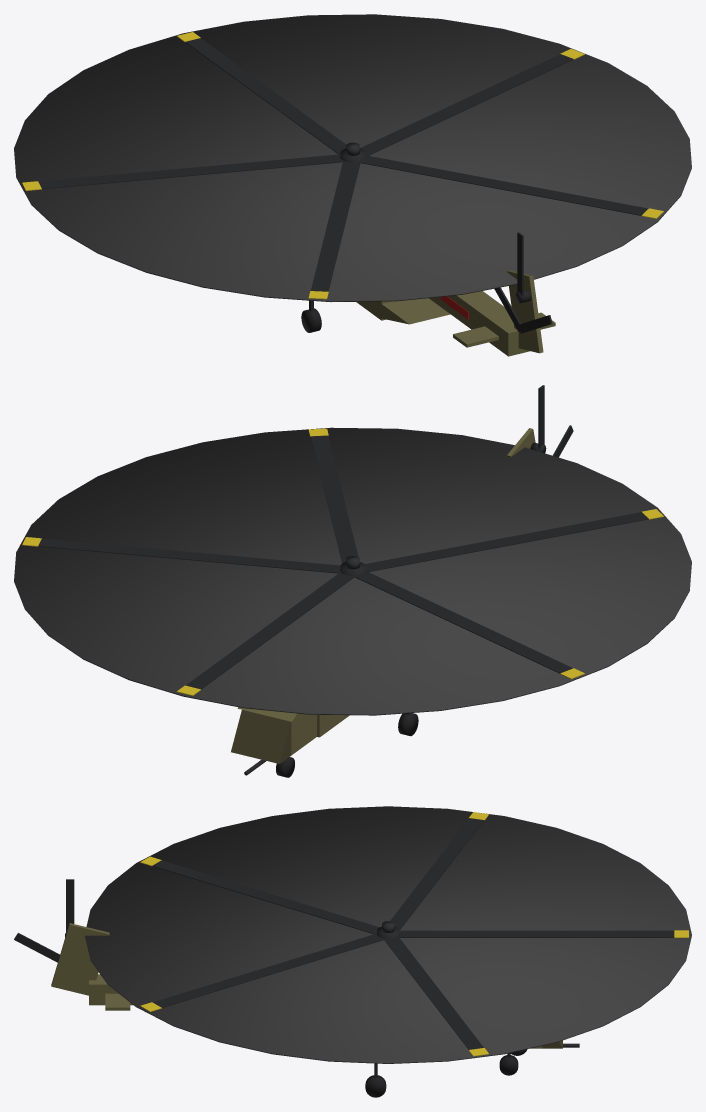
Rendered from AttackHeli_Red.fbx.
3 views of the same model, one above another, from view 1: azimuth 30°, elevation 25°; view 2: azimuth 150°, elevation 25°; view 3: azimuth 270°, elevation 25° (orthographic). The views are drawn at different scales.
Parts seen in each view (by area): view 1: RotorDisc, RotorBlade4, RotorBlade2, RotorBlade1, TailBoom, RotorBlade0, RotorBlade3, Fin, Belly, Stabilizer; view 2: RotorDisc, RotorBlade1, RotorBlade3, RotorBlade4, RotorBlade0, NoseTip, RotorBlade2, Nose; view 3: RotorDisc, Fin, RotorBlade0, RotorBlade2, RotorBlade3, RotorBlade1, RotorBlade4, TailBoom.
Part boxes in pixels (x1,y1,x2,y2): RotorDisc: [14, 14, 691, 302]; RotorBlade4: [38, 154, 342, 189]; RotorBlade2: [359, 155, 648, 215]; RotorBlade1: [360, 54, 573, 156]; TailBoom: [429, 291, 530, 356]; RotorBlade0: [185, 38, 345, 154]; RotorBlade3: [311, 160, 360, 291]; Fin: [507, 270, 543, 353]; Belly: [377, 298, 450, 324]; Stabilizer: [453, 312, 555, 347]; RotorDisc: [14, 427, 691, 715]; RotorBlade1: [38, 538, 340, 573]; RotorBlade3: [365, 512, 648, 571]; RotorBlade4: [353, 571, 572, 673]; RotorBlade0: [186, 572, 354, 689]; NoseTip: [231, 710, 291, 763]; RotorBlade2: [310, 435, 358, 563]; Nose: [291, 714, 316, 755]; RotorDisc: [85, 806, 691, 1063]; Fin: [51, 923, 109, 995]; RotorBlade0: [398, 930, 674, 937]; RotorBlade2: [153, 933, 384, 1007]; RotorBlade3: [152, 860, 379, 934]; RotorBlade1: [383, 936, 483, 1049]; RotorBlade4: [390, 818, 484, 929]; TailBoom: [89, 974, 132, 1005].
Bounding box in the file's own units: 1460 × 1630 × 505.
